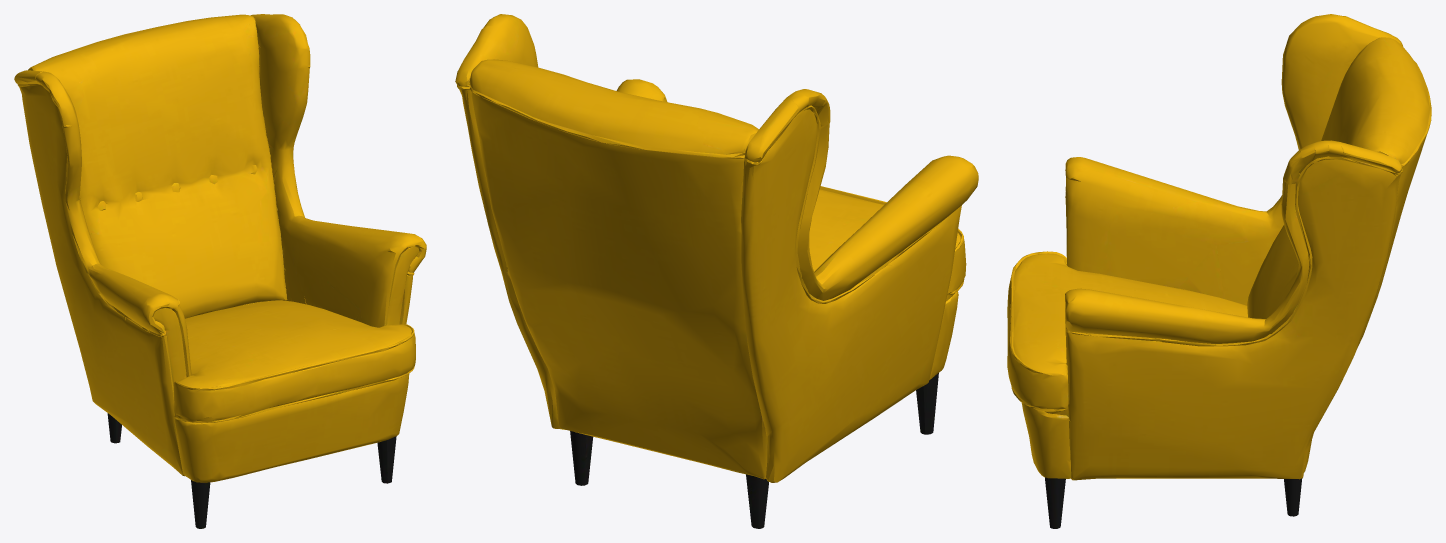
File: 11 - STRANDMON - 扶手椅，Skiftebo 黃色 IKEA 線上購物.glb
3 renders of one model, left to right at view 1: azimuth 30°, elevation 25°; view 2: azimuth 150°, elevation 25°; view 3: azimuth 270°, elevation 25°, orthographic. The views are drawn at different scales.
Visible parts, largest first — view 1: ProcessedMeshNode; view 2: ProcessedMeshNode; view 3: ProcessedMeshNode.
Part boxes in pixels (x1,y1,x2,y2): ProcessedMeshNode: (14,14,426,528); ProcessedMeshNode: (455,14,978,528); ProcessedMeshNode: (1007,14,1431,528).
Bounding box in the file's own units: 0.8083 × 1.01 × 0.9698.
Materials: 1 (1 with a texture image).
